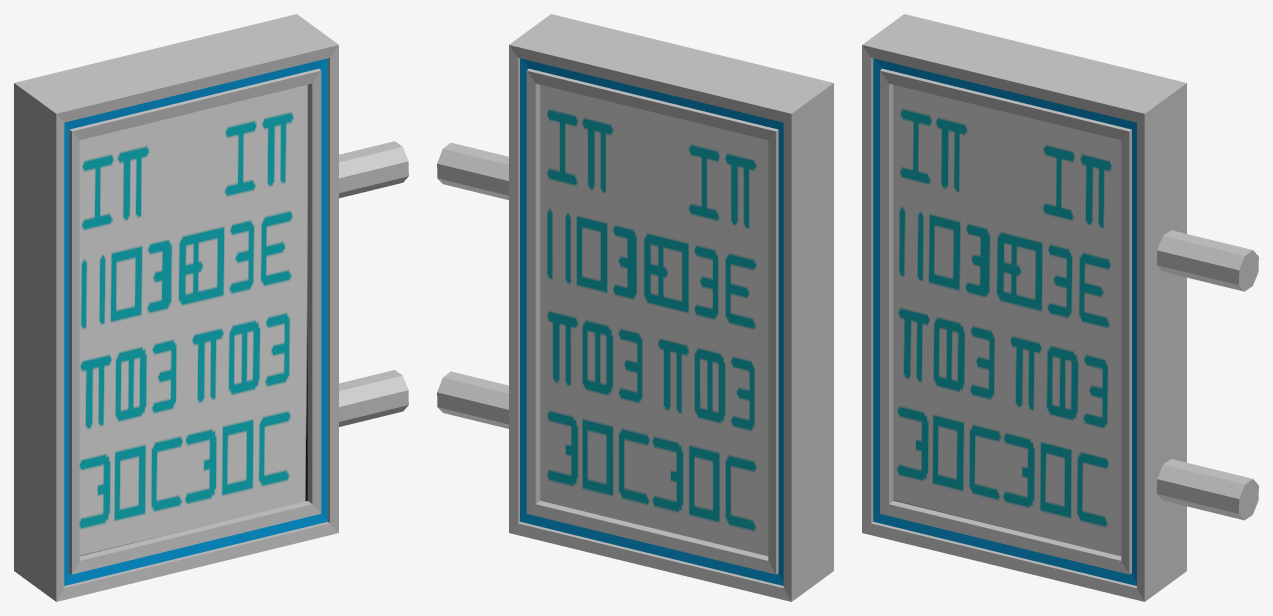
File: Sign_Side02.fbx
The picture shows the model from 3 angles, left to right: view 1: azimuth 30°, elevation 25°; view 2: azimuth 150°, elevation 25°; view 3: azimuth 330°, elevation 25°; orthographic projection.
Visible parts, largest first — view 1: Cube.468; view 2: Cube.468; view 3: Cube.468.
Part boxes in pixels (<box>): Cube.468: <box>14,14,408,601</box>; Cube.468: <box>437,14,833,601</box>; Cube.468: <box>862,14,1258,601</box>.
Size of the model in its own units: 97.29 by 124 by 19.51.
